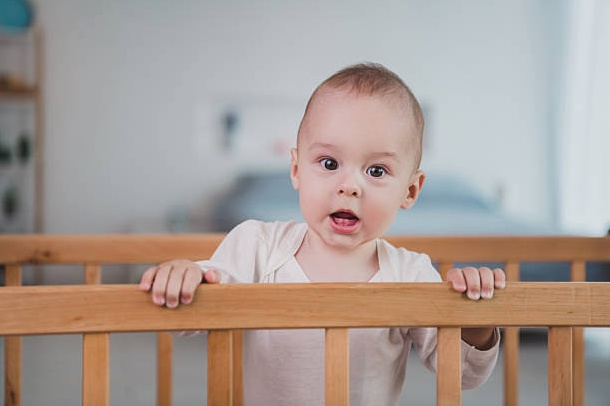baby: (140, 64, 440, 307)
crib: (0, 234, 609, 405)
